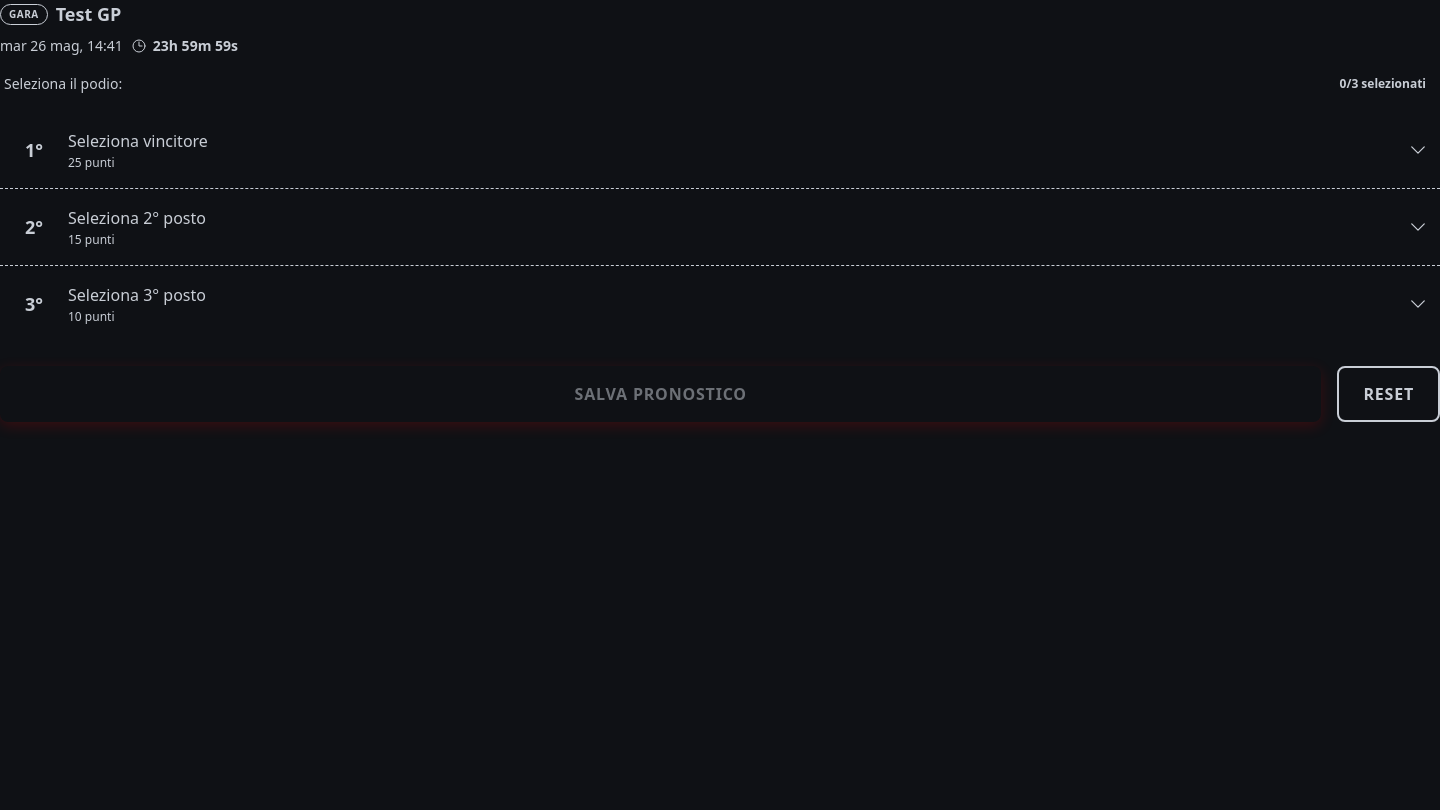
Test: PredictionForm View Modes › disabilita il salvataggio finché la selezione Top 3 non è valida
The width and height of the screenshot is (1440, 810).
Check: the button "Salva Pronostico" is disabled, box left=0, top=366, right=1321, bottom=422
Click the button "1° Seleziona vincitore 25 punti" at [138, 141], box left=0, top=112, right=1439, bottom=189
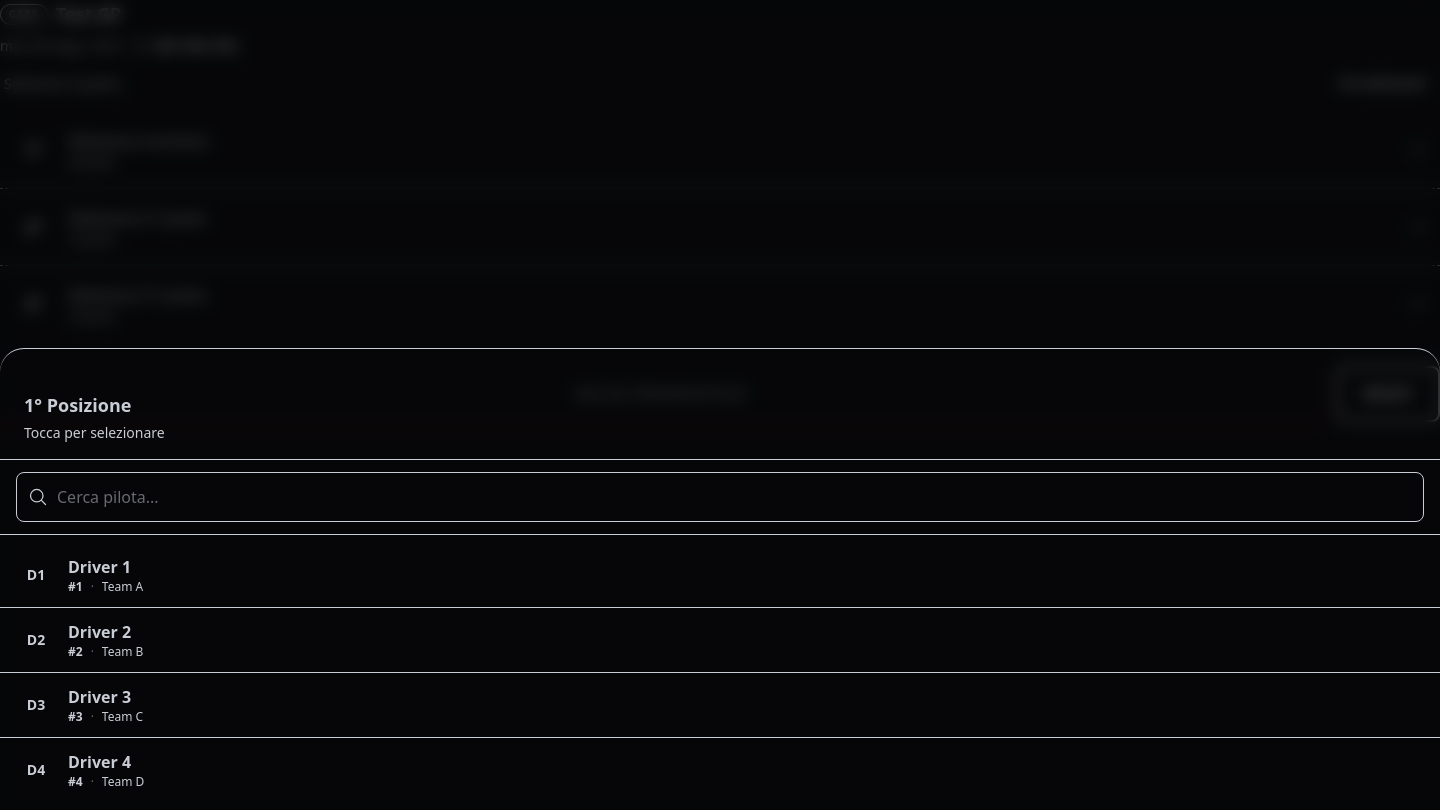
Click the button "D1 Driver 1 #1 · Team A" at [100, 567], box left=0, top=543, right=1439, bottom=608
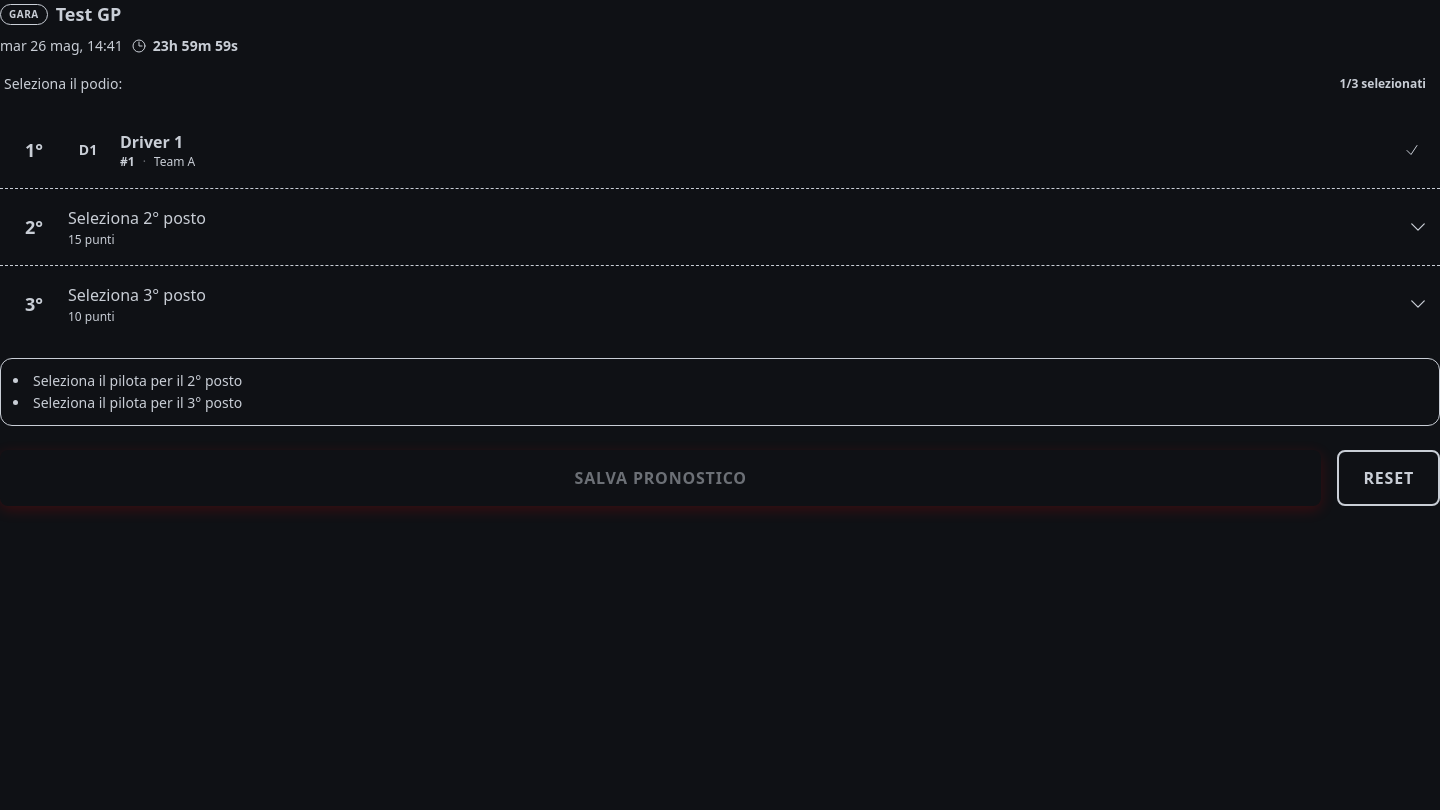
Click the button "2° Seleziona 2° posto 15 punti" at [137, 218], box left=0, top=189, right=1439, bottom=266
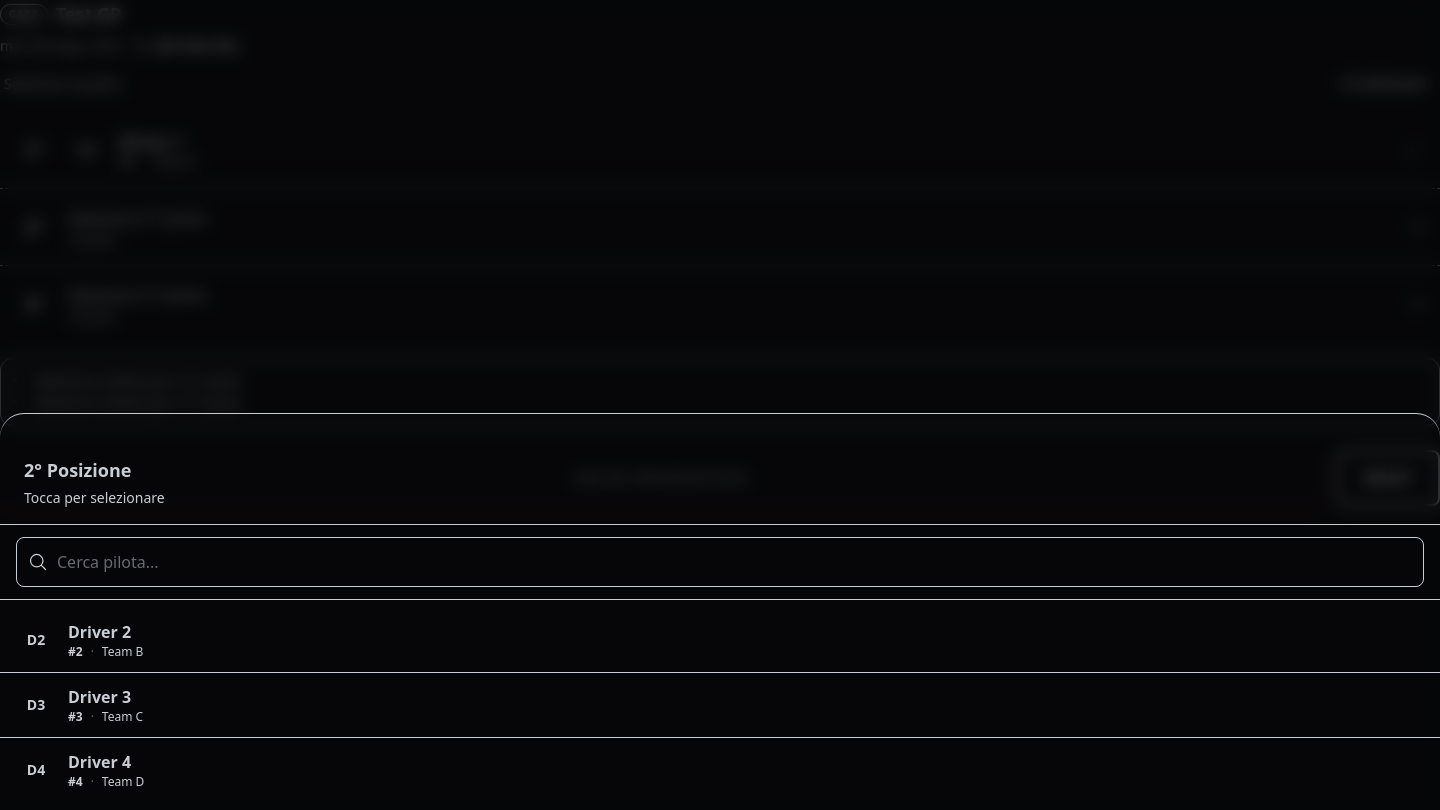
Click the button "D2 Driver 2 #2 · Team B" at [100, 632], box left=0, top=608, right=1439, bottom=673
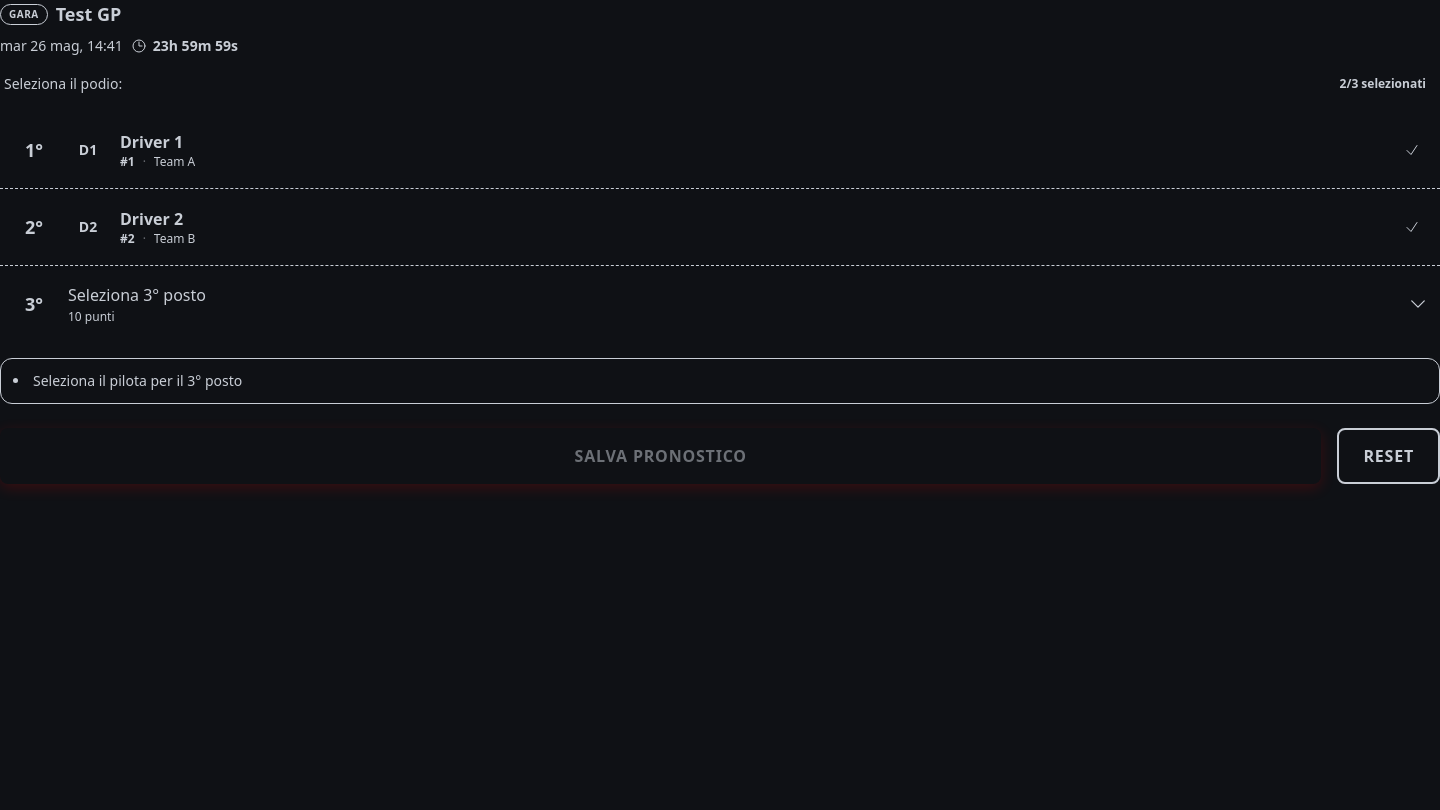
Click the button "3° Seleziona 3° posto 10 punti" at [137, 295], box left=0, top=266, right=1439, bottom=342
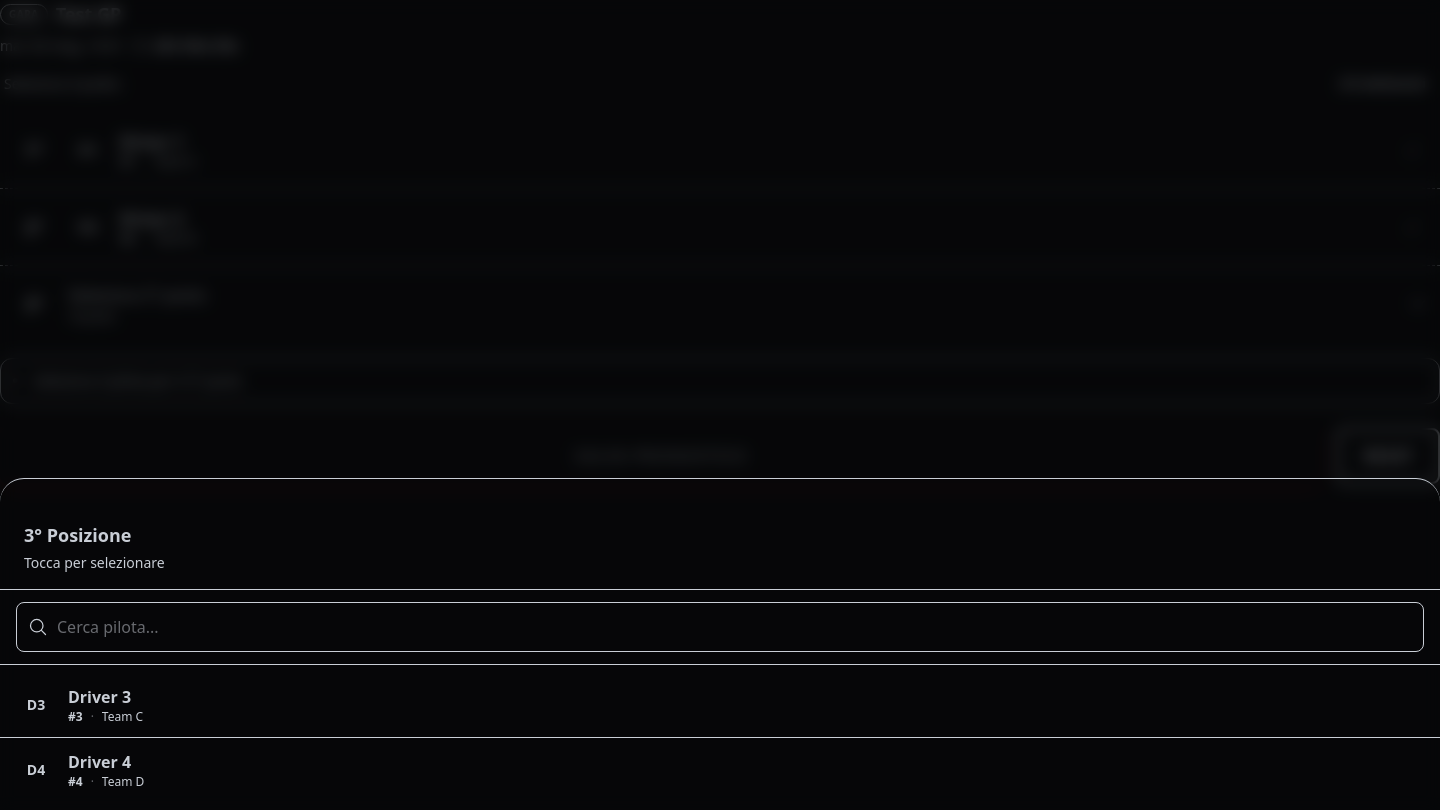
Click the button "D3 Driver 3 #3 · Team C" at [100, 697], box left=0, top=673, right=1439, bottom=738
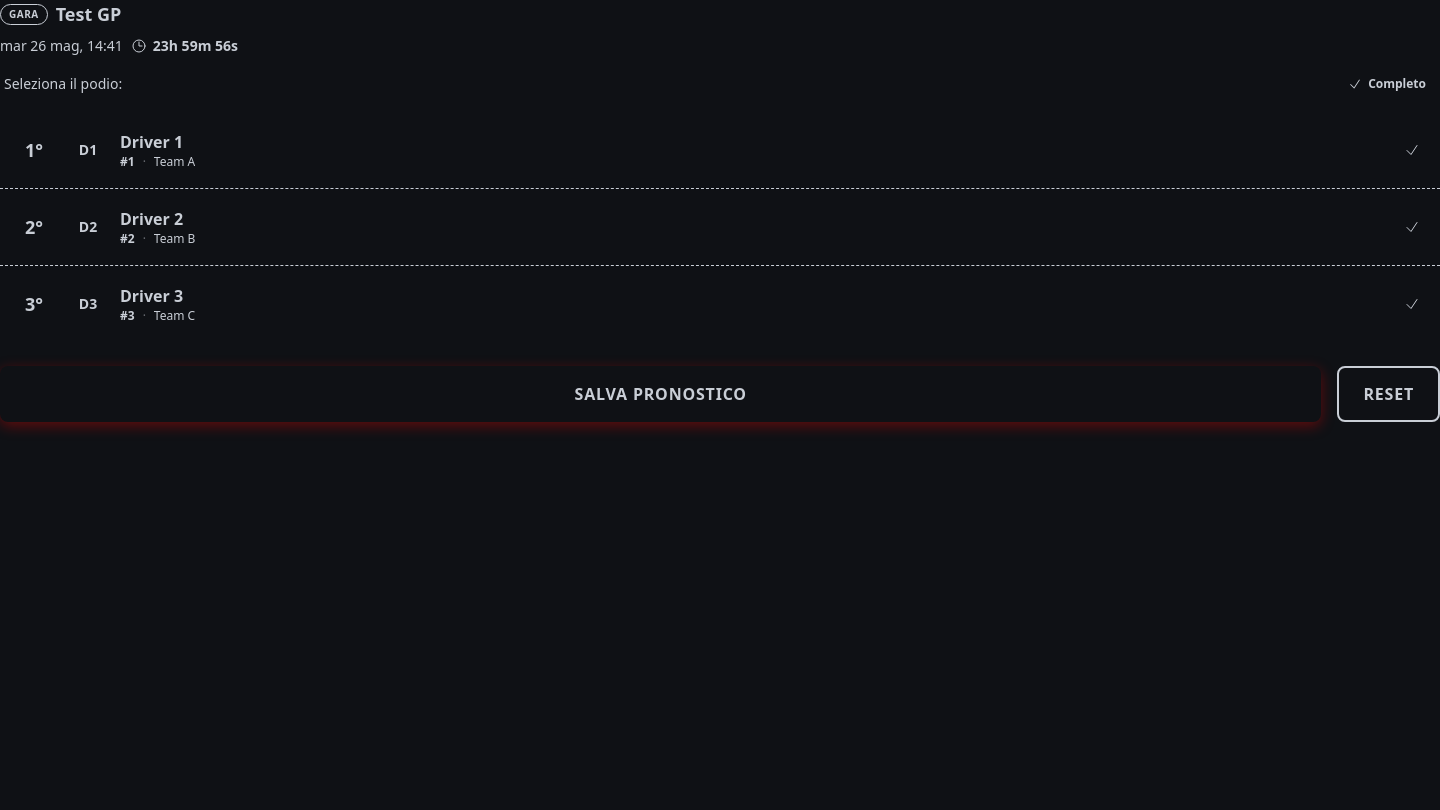
Check: the button "Salva Pronostico" is enabled, box left=0, top=366, right=1321, bottom=422
